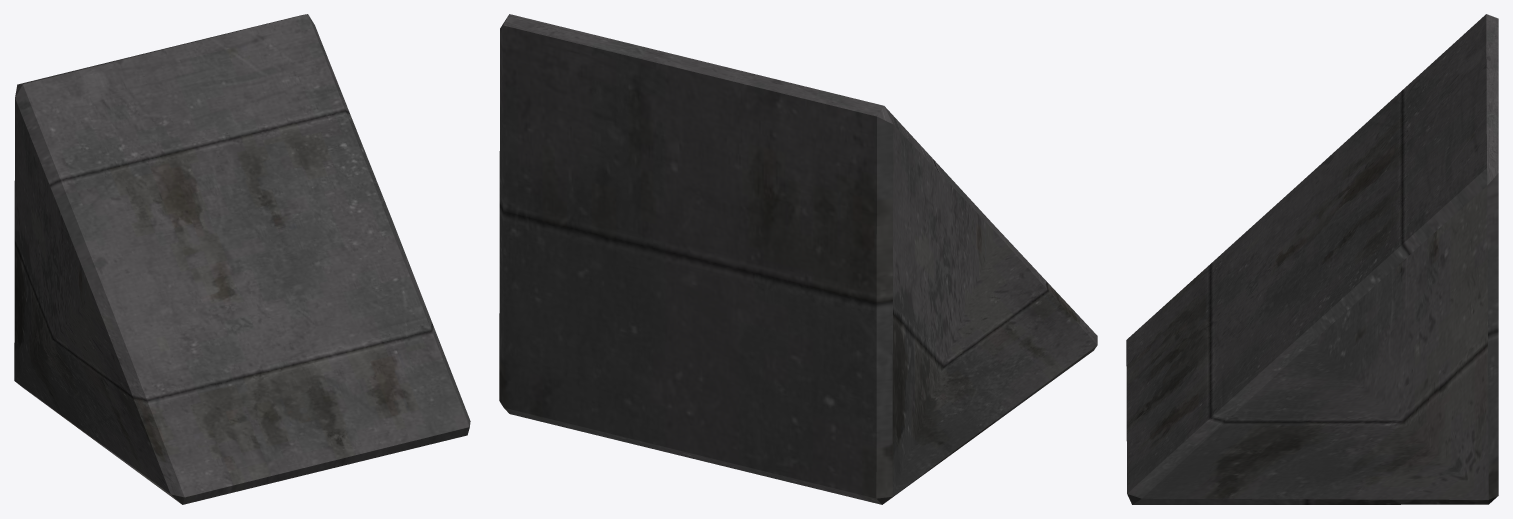
File: SlantedCube1.fbx
The picture shows the model from 3 angles, left to right: view 1: azimuth 30°, elevation 25°; view 2: azimuth 150°, elevation 25°; view 3: azimuth 270°, elevation 25°; orthographic projection. The views are drawn at different scales.
Parts seen in each view (by area): view 1: SlantedCube1; view 2: SlantedCube1; view 3: SlantedCube1.
Part boxes in pixels (left/top/right/bottom): SlantedCube1: left=14, top=14, right=470, bottom=504; SlantedCube1: left=499, top=14, right=1097, bottom=504; SlantedCube1: left=1126, top=14, right=1498, bottom=504.
Bounding box in the file's own units: 1 × 0.9697 × 0.9697.
1 material, 1 textured.
